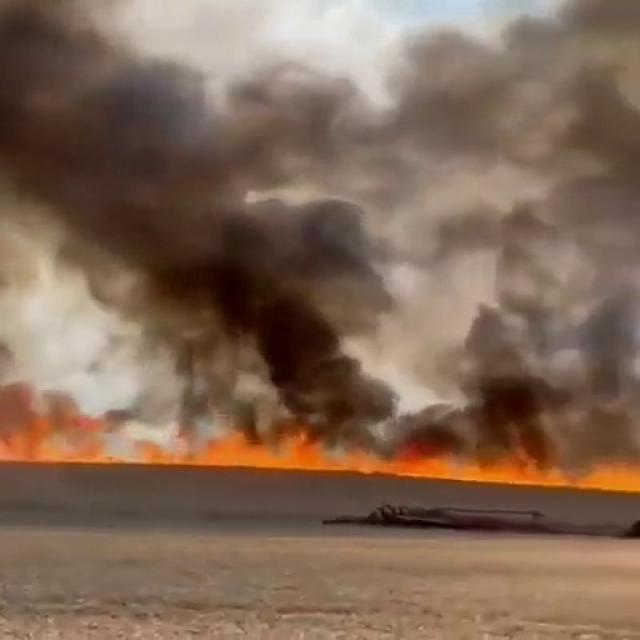Fire: (0, 395, 640, 498)
